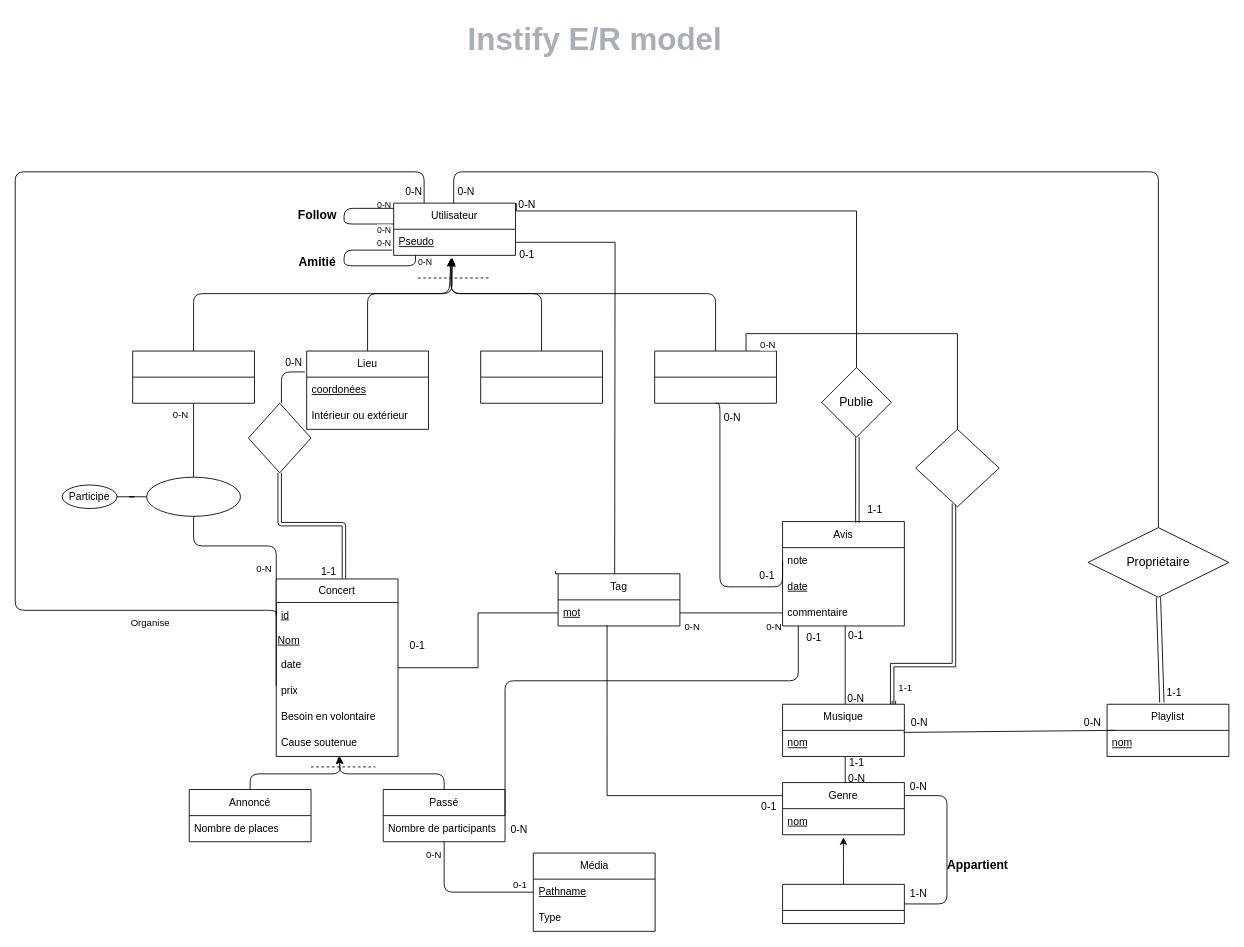
Some shapes in this 1244 by 947 pixel diagram are drawn without their labels. The shapes that lost their labels are listed below. From the top down, each one's centre as x and y in pixels, then its label:
At [193,376]: "Personne".
At [541,376]: "Association".
At [715,376]: "Groupe".
At [279,437]: "Lieu du concert".
At [957,467]: "Créateur".
At [193,496]: "Intéréssé".
At [843,903]: "Sous-Genre".
